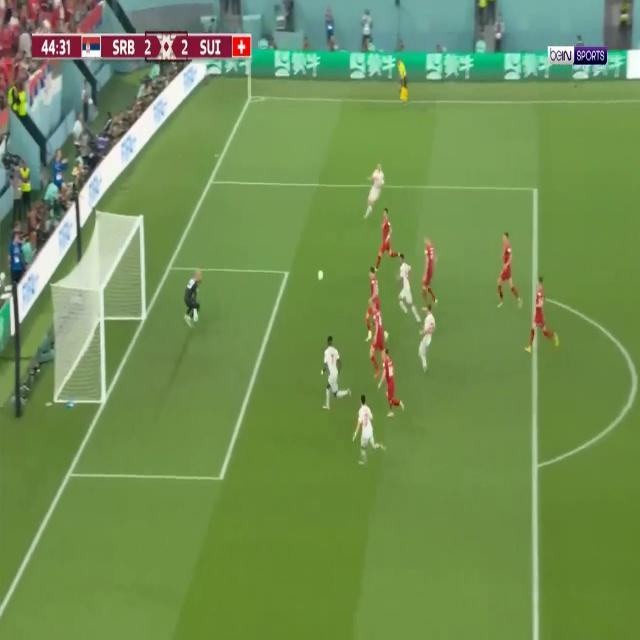Ball: (317, 269, 324, 282)
GoalKeeper: (179, 271, 205, 327)
Referee: (397, 58, 412, 106)
TEAM 1: (526, 273, 560, 354), (497, 232, 521, 310), (381, 348, 405, 420), (417, 236, 440, 310), (368, 318, 390, 388), (365, 262, 385, 331), (376, 211, 396, 271)
TEAM 2: (321, 336, 352, 410), (352, 396, 384, 467), (416, 306, 436, 374), (397, 254, 417, 318), (366, 162, 386, 224)
